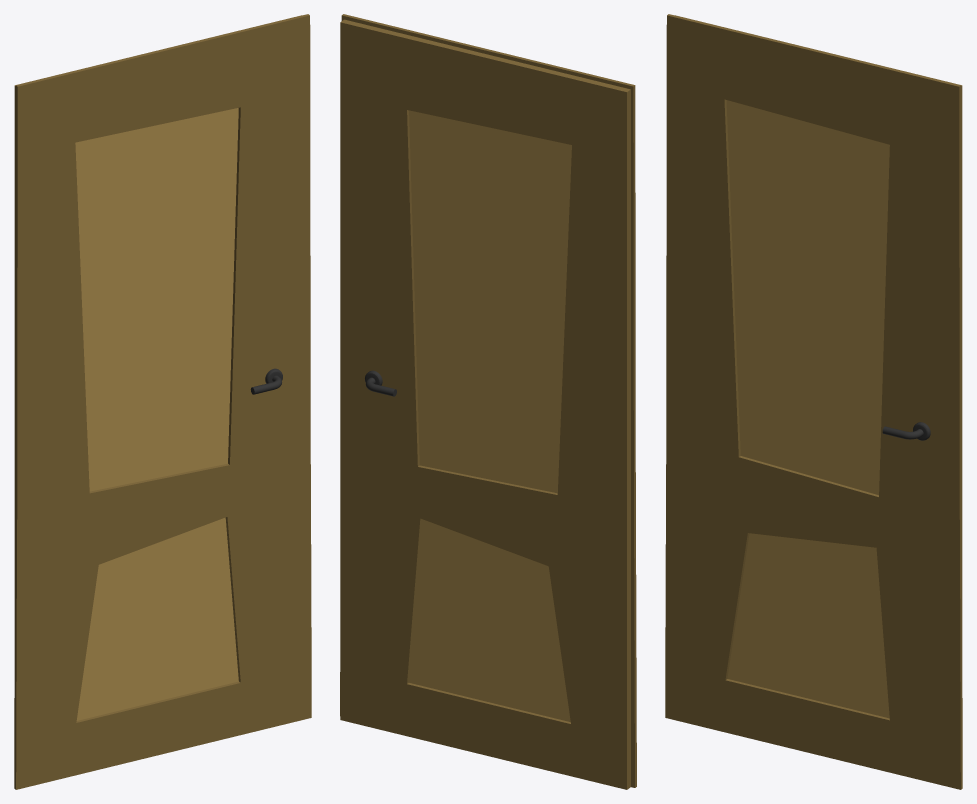
File: Door.fbx
3 renders of one model, left to right at view 1: azimuth 30°, elevation 25°; view 2: azimuth 150°, elevation 25°; view 3: azimuth 330°, elevation 25°, orthographic.
Parts seen in each view (by area): view 1: Handle_3; view 2: Handle_3; view 3: Handle_3.
Part boxes in pixels (x1=…): Handle_3: x1=14, y1=14, x2=311, y2=789; Handle_3: x1=340, y1=14, x2=636, y2=789; Handle_3: x1=665, y1=14, x2=962, y2=789.
Size of the model in its own units: 88.5 by 201 by 14.
